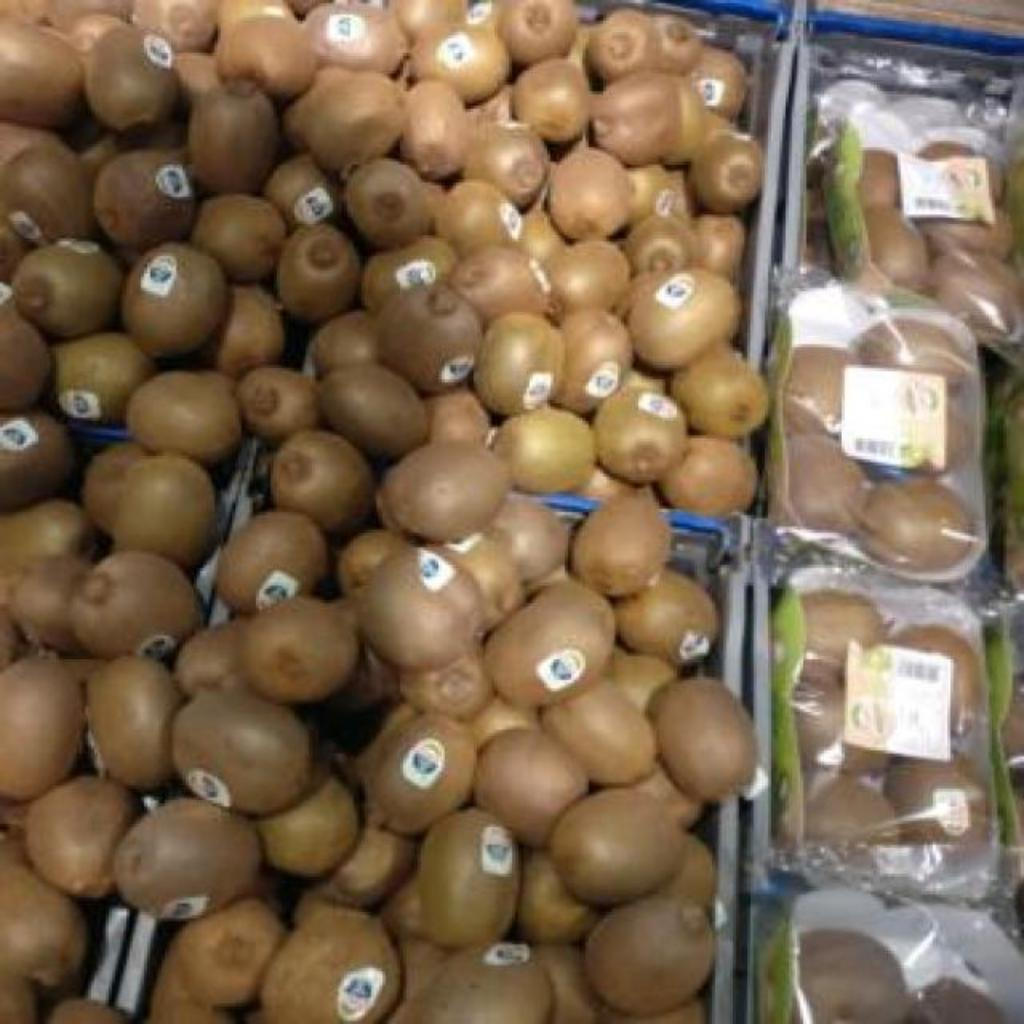kiwi: (114, 798, 260, 919), (172, 690, 310, 813), (548, 788, 686, 905), (484, 580, 612, 706), (264, 910, 400, 1023), (586, 894, 714, 1014), (360, 546, 482, 669), (418, 808, 520, 947), (26, 776, 138, 898), (72, 552, 200, 658), (474, 730, 588, 848), (0, 842, 88, 988), (652, 678, 754, 802), (238, 598, 358, 703), (372, 712, 476, 833), (88, 656, 182, 789), (174, 898, 286, 1007), (380, 446, 508, 541), (542, 682, 656, 786), (122, 244, 228, 355), (0, 658, 82, 801), (376, 282, 482, 392), (112, 454, 214, 568), (628, 268, 740, 369), (126, 370, 242, 466), (420, 942, 554, 1024), (216, 514, 326, 613), (12, 238, 122, 337), (270, 430, 376, 532), (570, 490, 670, 597), (320, 364, 428, 460), (258, 776, 358, 877), (614, 568, 718, 664), (94, 150, 194, 249), (86, 26, 180, 131), (192, 82, 280, 194), (303, 72, 402, 171), (0, 142, 96, 241), (474, 312, 564, 415), (53, 332, 154, 421), (0, 20, 84, 127), (494, 406, 596, 494), (594, 387, 686, 484), (670, 348, 768, 439), (276, 224, 360, 323), (554, 308, 632, 413), (190, 194, 284, 281), (450, 244, 552, 324), (591, 73, 680, 164), (344, 158, 432, 249), (548, 146, 634, 239), (328, 600, 400, 711), (8, 556, 90, 652), (658, 436, 756, 516), (516, 850, 598, 944), (222, 16, 316, 97), (446, 532, 524, 629), (412, 26, 508, 103), (330, 822, 416, 907), (362, 236, 458, 311), (0, 412, 74, 509), (462, 122, 546, 207), (306, 4, 408, 73), (400, 80, 470, 179), (490, 496, 568, 583), (434, 180, 522, 255), (236, 366, 320, 444), (514, 58, 590, 142), (216, 286, 284, 377), (0, 500, 94, 565), (82, 442, 146, 535), (400, 656, 494, 719), (284, 68, 357, 149), (688, 134, 762, 213), (548, 240, 630, 310), (386, 936, 450, 1023), (586, 10, 660, 83), (174, 618, 244, 695), (532, 944, 600, 1023), (262, 154, 336, 226), (498, 0, 573, 65), (338, 530, 408, 597), (308, 310, 378, 376), (48, 0, 131, 55), (646, 87, 704, 165), (634, 766, 702, 828), (624, 214, 692, 275), (660, 834, 716, 908), (690, 46, 746, 119), (608, 654, 678, 712), (614, 264, 680, 321), (424, 388, 490, 445), (470, 696, 540, 748), (692, 214, 744, 282), (146, 944, 190, 1023), (628, 170, 692, 223), (380, 872, 426, 938), (219, 0, 304, 33), (1, 122, 60, 169), (602, 998, 706, 1024), (655, 16, 702, 73), (518, 208, 566, 263), (294, 880, 351, 923), (400, 738, 446, 789), (176, 52, 220, 101), (46, 998, 128, 1023), (146, 1001, 234, 1023), (0, 974, 38, 1023), (0, 216, 28, 281), (578, 468, 630, 500), (78, 136, 120, 175), (468, 84, 510, 122), (0, 610, 24, 669), (0, 562, 26, 609), (422, 182, 446, 231), (620, 368, 666, 393), (0, 798, 28, 836), (704, 112, 736, 141), (286, 1, 328, 15)
